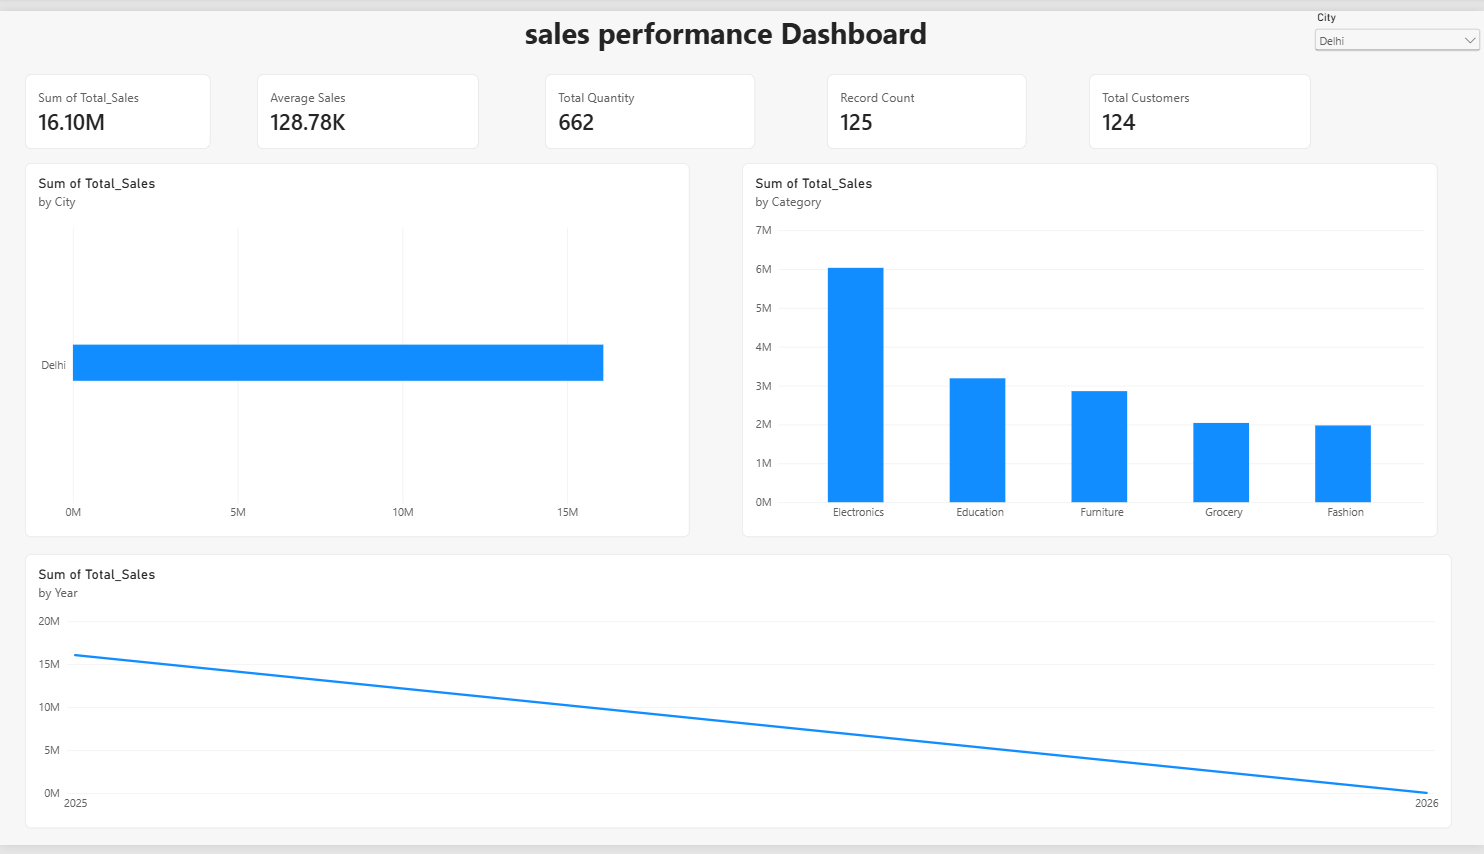

The page's visual inventory and layout, read from the dashboard file:
{"tool":"powerbi","page":{"name":"Page 1","canvas":[1920,1080],"ordinal":0},"visuals":[{"type":"cardVisual","fields":{"Data":["Sum(Sheet1.Total_Sales)"]},"box":[32.3,81.5,240.6,97],"z":0},{"type":"cardVisual","fields":{"Data":["Sheet1.Average Sales"]},"box":[332.5,81.5,287.2,97],"z":1000},{"type":"cardVisual","fields":{"Data":["Sheet1.Total Quantity"]},"box":[705.1,81.5,273,97],"z":2000},{"type":"clusteredColumnChart","fields":{"Category":["Sheet1.Category"],"Y":["Sum(Sheet1.Total_Sales)"]},"box":[960,196.7,900.5,483.9],"z":3000},{"type":"clusteredBarChart","fields":{"Category":["Sheet1.City"],"Y":["Sum(Sheet1.Total_Sales)"]},"box":[32.3,196.7,860.4,483.9],"z":4000},{"type":"lineChart","fields":{"Category":["Sheet1.Order_Date.Variation.Date Hierarchy.Year","Sheet1.Order_Date.Variation.Date Hierarchy.Month"],"Y":["Sum(Sheet1.Total_Sales)"]},"box":[32.3,702.5,1846.3,354.5],"z":5000},{"type":"cardVisual","fields":{"Data":["Sheet1.Record Count"]},"box":[1070,81.5,258.8,97],"z":6000},{"type":"cardVisual","fields":{"Data":["Sheet1.Total Customers"]},"box":[1408.9,81.5,287.2,97],"z":6001},{"type":"slicer","fields":{"Values":["Sheet1.City"]},"box":[1696.2,0,223.8,55.6],"z":6002},{"type":"textbox","box":[679.2,2.6,552.5,78.9],"z":6003}]}

Visuals, with their boxes in screenshot pixels (x1, y1, x2, y2), scaled from the page's 1920x1080 canvas onto the 1484x854 screenshot:
cardVisual - Sum(Sheet1.Total_Sales): detection(25, 64, 211, 141)
cardVisual - Sheet1.Average Sales: detection(257, 64, 479, 141)
cardVisual - Sheet1.Total Quantity: detection(545, 64, 756, 141)
clusteredColumnChart - Sheet1.Category x Sum(Sheet1.Total_Sales): detection(742, 156, 1438, 538)
clusteredBarChart - Sheet1.City x Sum(Sheet1.Total_Sales): detection(25, 156, 690, 538)
lineChart - Sheet1.Order_Date.Variation.Date Hierarchy.Year x Sheet1.Order_Date.Variation.Date Hierarchy.Month: detection(25, 555, 1452, 836)
cardVisual - Sheet1.Record Count: detection(827, 64, 1027, 141)
cardVisual - Sheet1.Total Customers: detection(1089, 64, 1311, 141)
slicer - Sheet1.City: detection(1311, 0, 1483, 44)
textbox: detection(525, 2, 952, 64)
